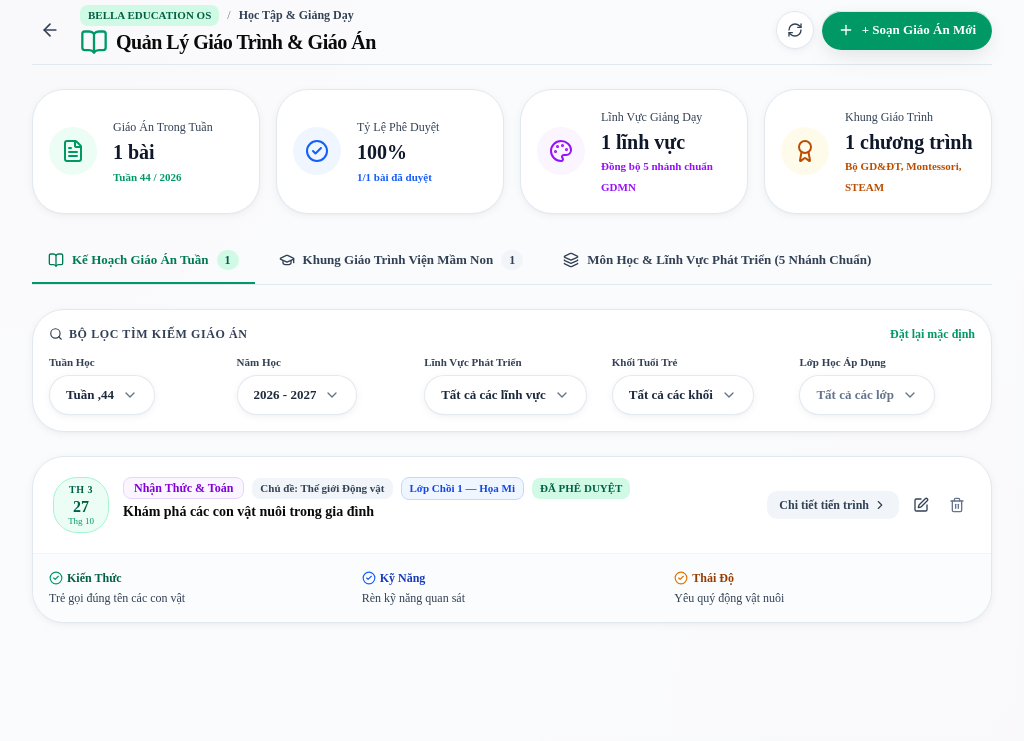
Test: CurriculumManagementPage Component (/dashboard/education/curriculum) › toggles detail accordion to show activity steps
expect the heading "Khám phá các con vật nuôi trong gia đình" is shown: met, box [123,504,374,519]
Click the button "Chi tiết tiến trình". click: (833, 505)
box: [767,491,899,519]
(page scrolled)
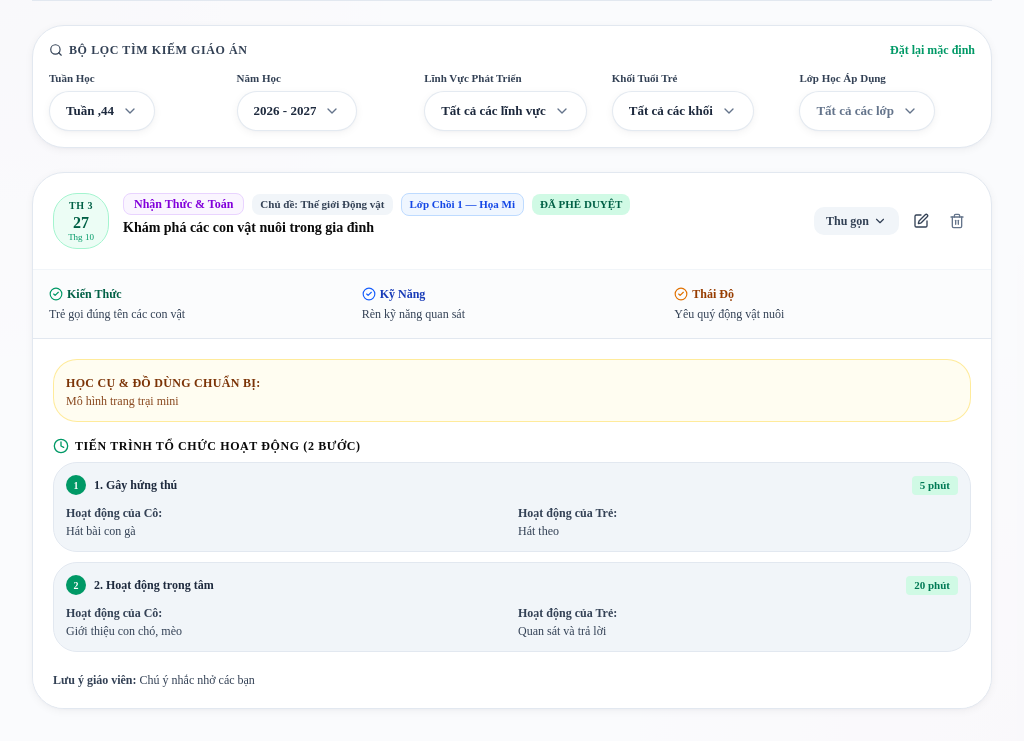
expect the heading "Tiến trình tổ chức hoạt động (2 bước)" is shown: met, box [53,438,361,454]
expect the text "Mô hình trang trại mini" is shown: met, box [66,394,179,408]
expect the text "1. Gây hứng thú" is shown: met, box [94,477,177,493]
